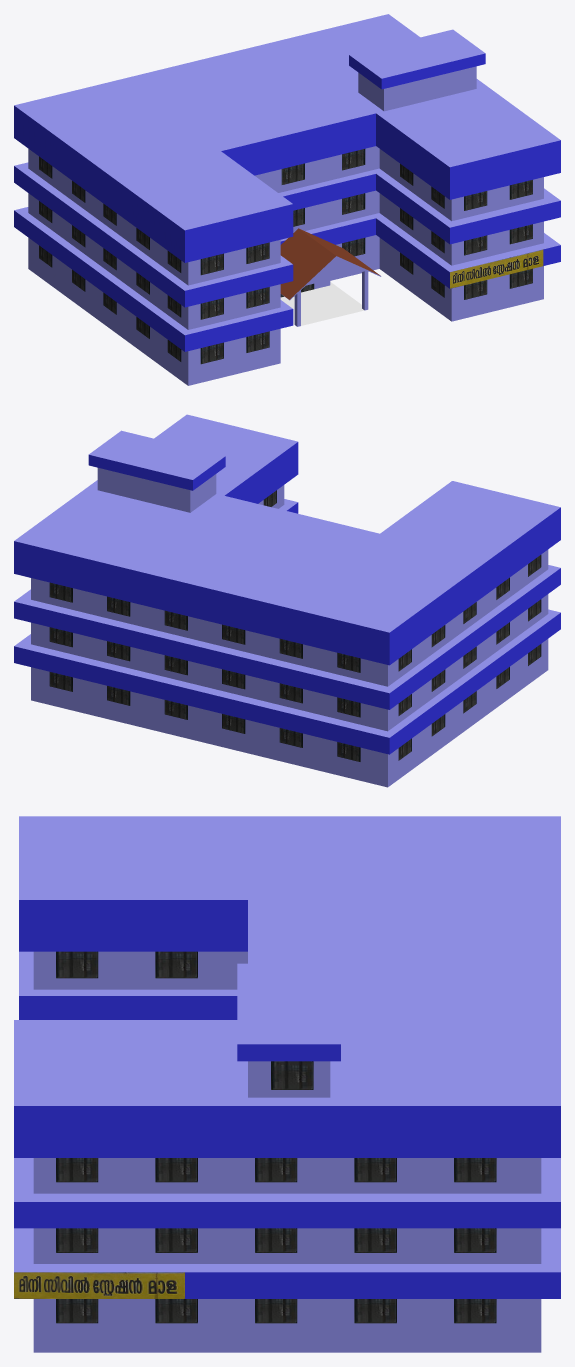
Rendered from GOV_BUILDING_1.fbx.
The picture shows the model from 3 angles, top to bottom: view 1: azimuth 30°, elevation 25°; view 2: azimuth 150°, elevation 25°; view 3: azimuth 270°, elevation 25°; orthographic projection. The views are drawn at different scales.
Parts seen in each view (by area): view 1: Model; view 2: Model; view 3: Model.
Boxes of the visible parts, x1,y1,x2,y2 form: Model: (14,14,560,385); Model: (14,414,560,787); Model: (14,816,560,1352).
Bounding box in the file's own units: 1014 × 510 × 808.
